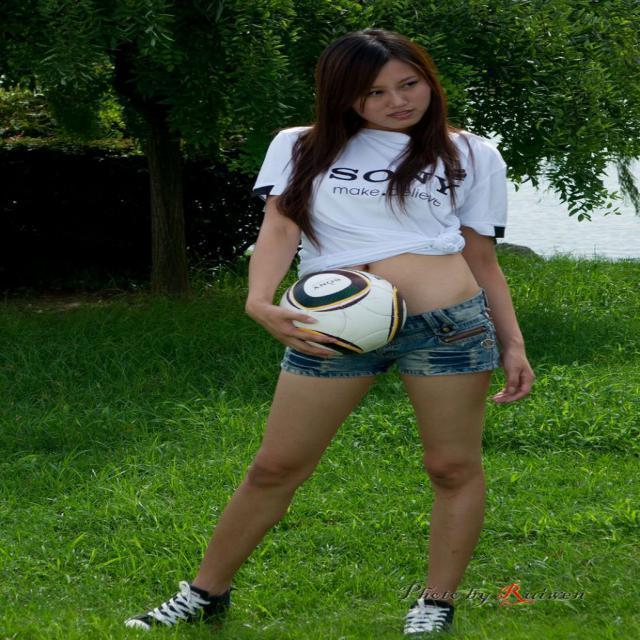ball: (275, 268, 417, 352)
